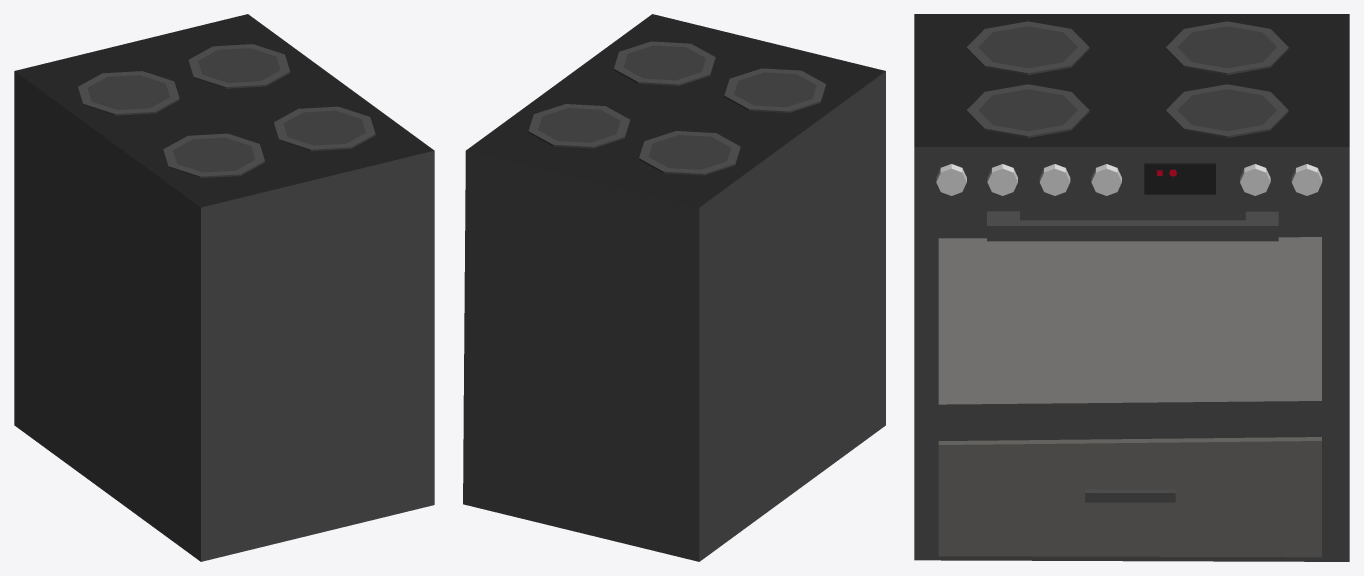
File: Kitchen_2_Stove.fbx
3 renders of one model, left to right at view 1: azimuth 30°, elevation 25°; view 2: azimuth 150°, elevation 25°; view 3: azimuth 270°, elevation 25°, orthographic. The views are drawn at different scales.
Parts seen in each view (by area): view 1: Kitchen_2_Stove; view 2: Kitchen_2_Stove; view 3: Kitchen_2_Stove.
Boxes of the visible parts, x1,y1,x2,y2 form: Kitchen_2_Stove: [14, 14, 434, 561]; Kitchen_2_Stove: [463, 14, 885, 561]; Kitchen_2_Stove: [914, 14, 1349, 561].
Size of the model in its own units: 97.98 by 129 by 122.
